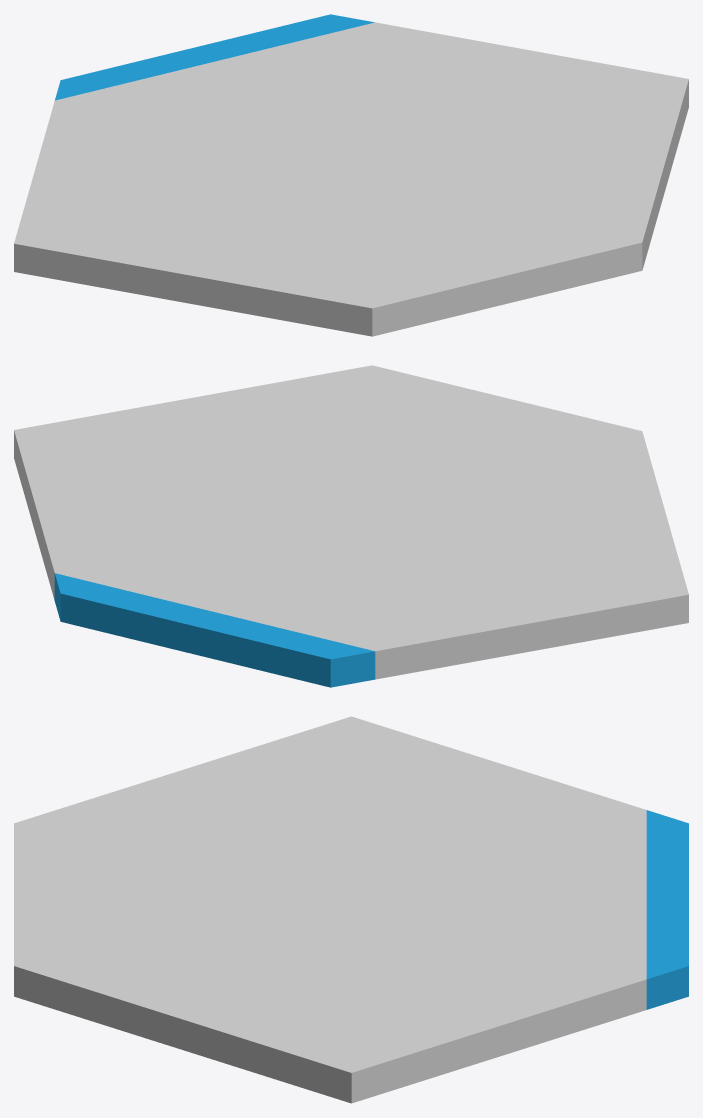
3 renders of one model, top to bottom at view 1: azimuth 30°, elevation 25°; view 2: azimuth 150°, elevation 25°; view 3: azimuth 270°, elevation 25°, orthographic. The views are drawn at different scales.
Parts seen in each view (by area): view 1: Hexagon, N; view 2: Hexagon, N; view 3: Hexagon, N.
Part boxes in pixels (x1,y1,x2,y2): Hexagon: (14, 22, 688, 336); N: (55, 14, 374, 100); Hexagon: (14, 365, 688, 679); N: (54, 573, 375, 687); Hexagon: (14, 716, 646, 1103); N: (646, 810, 688, 1009).
Size of the model in its own units: 5 by 4 by 0.2.
